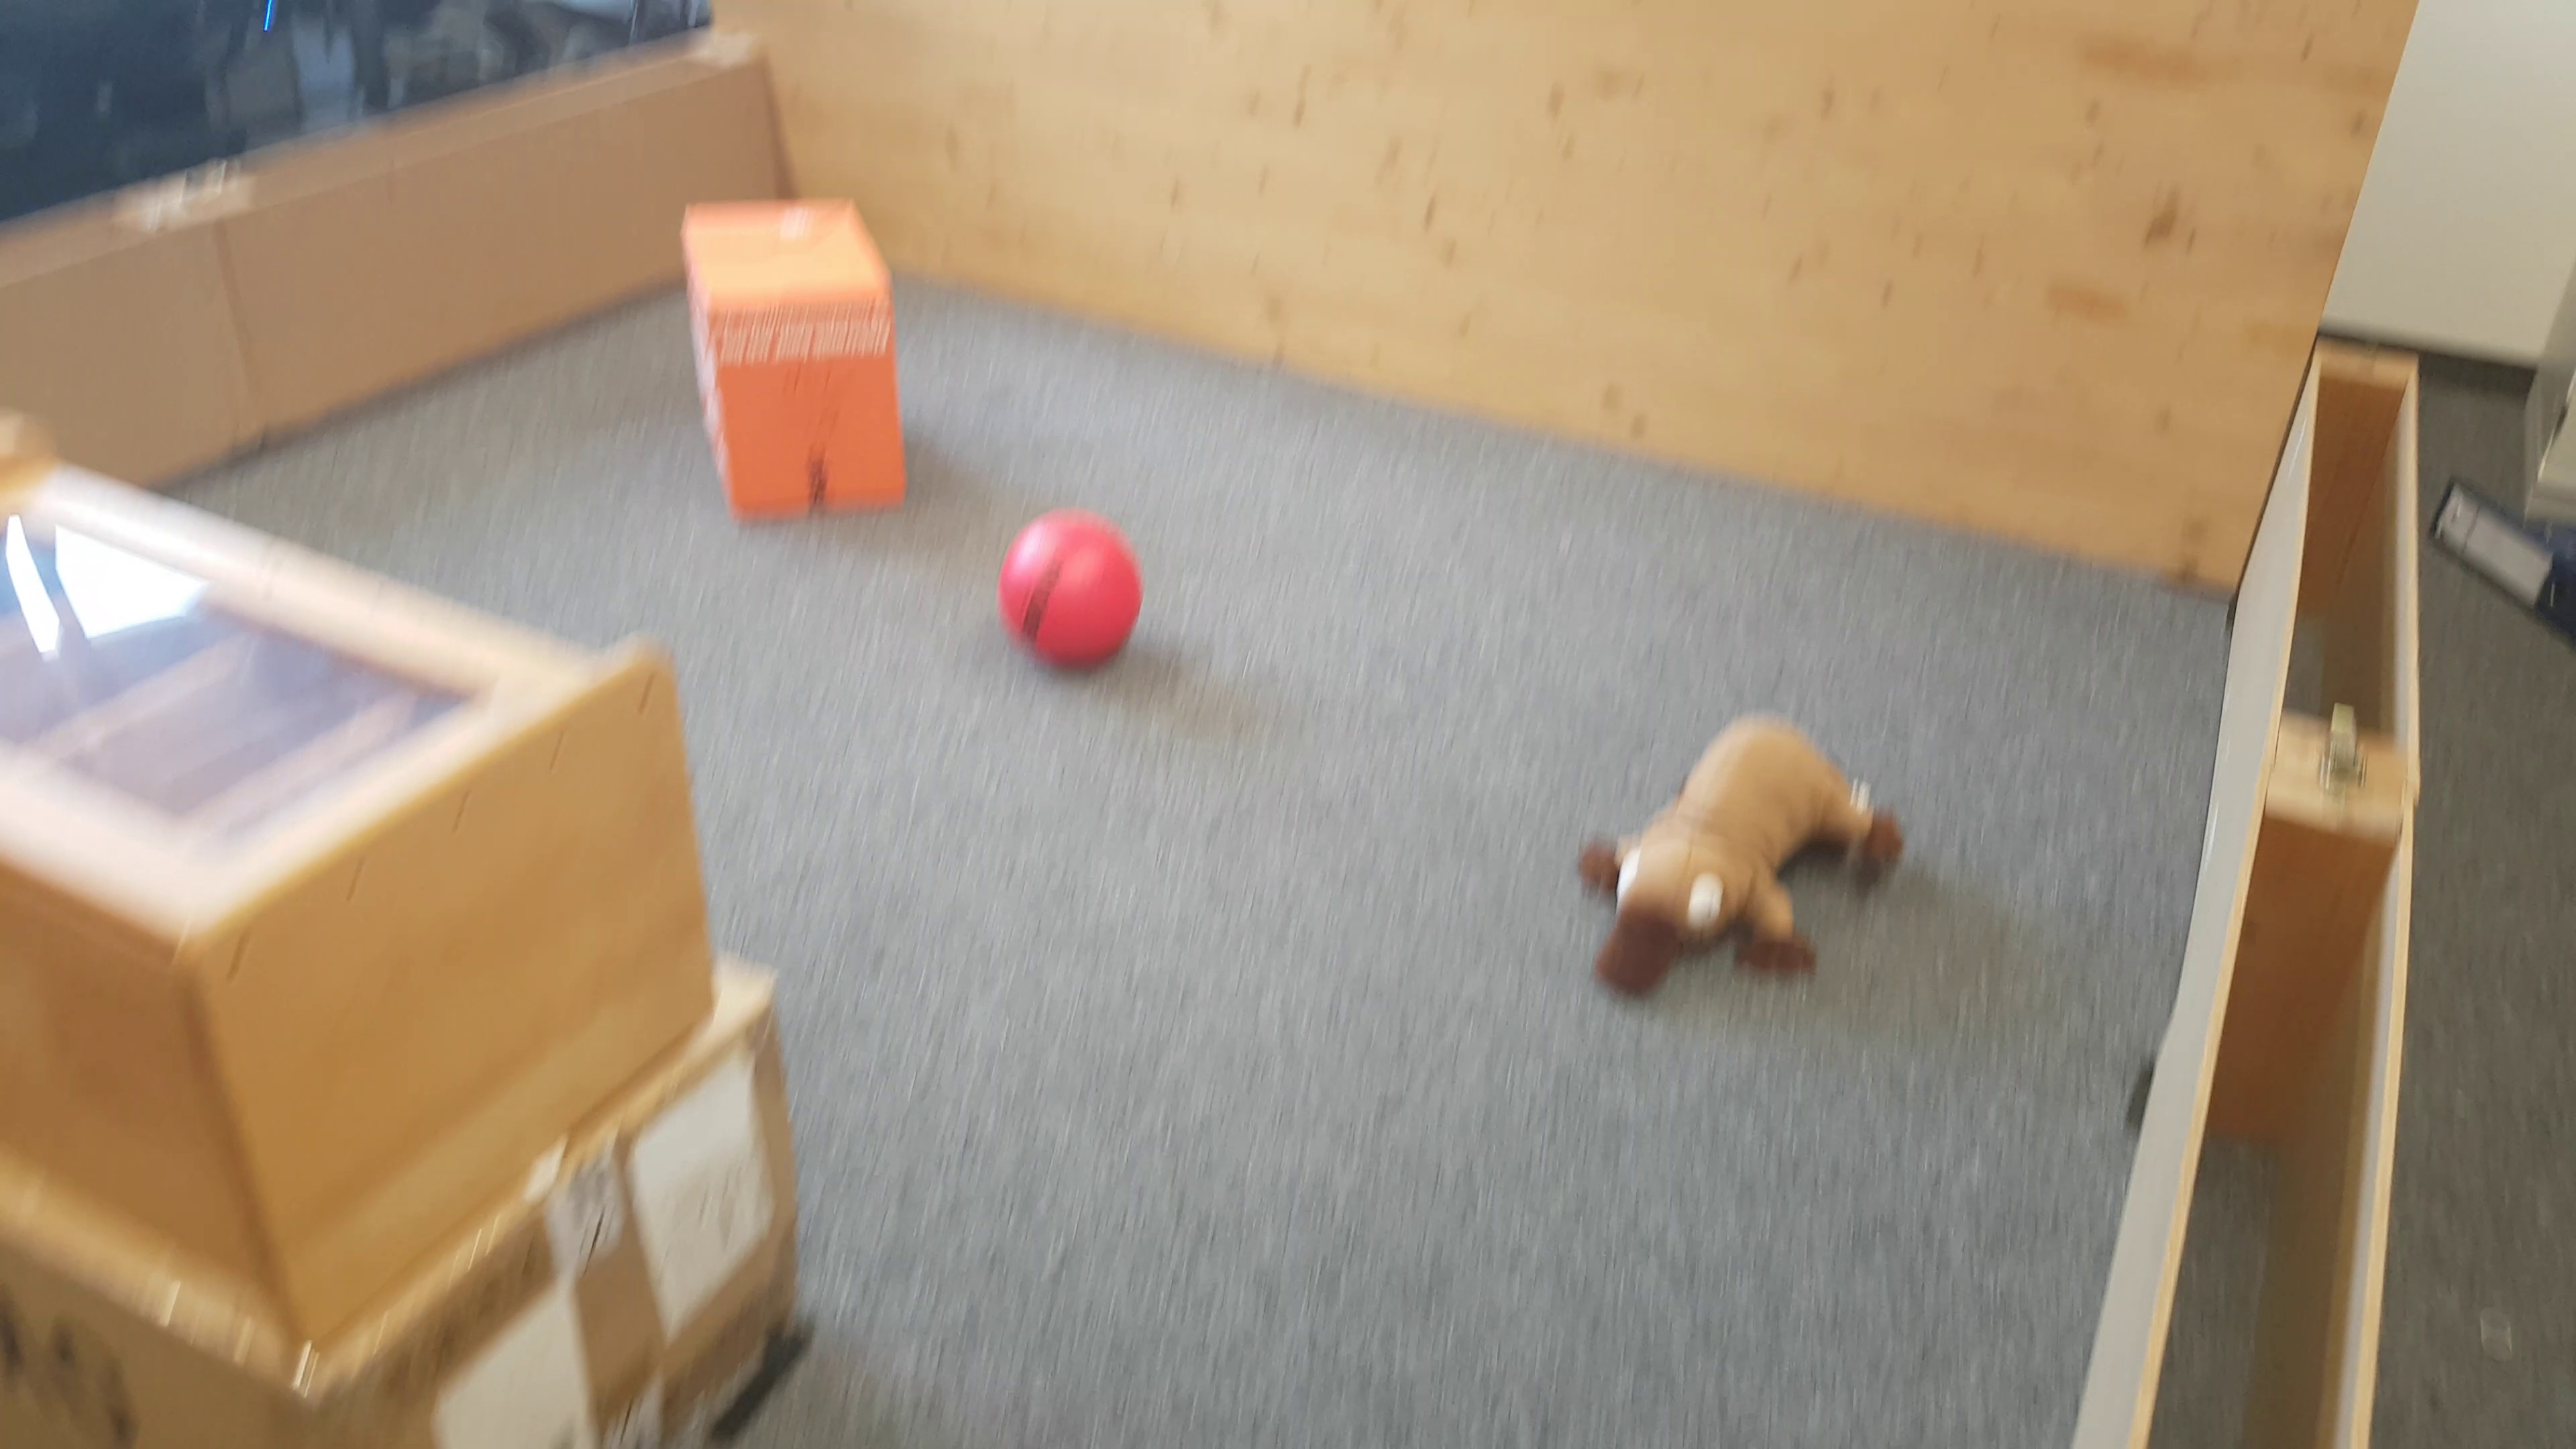grasp: (1583, 713, 1913, 1010)
kick: (996, 508, 1146, 679)
push: (678, 195, 913, 525)
